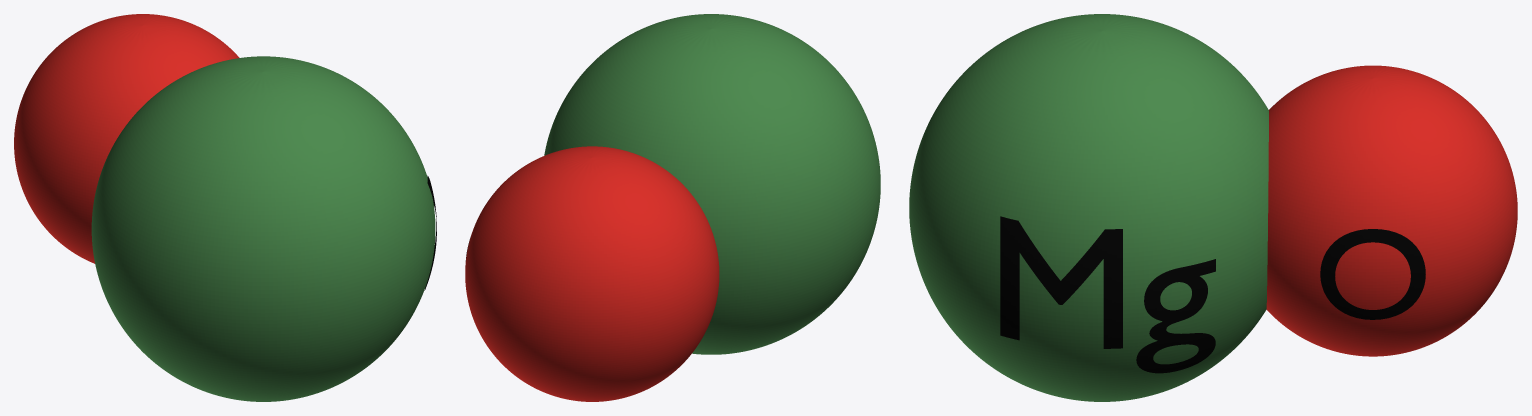
File: Magnesium Oxide (MgO) - Copy.fbx
3 views of the same model, side by side, from view 1: azimuth 30°, elevation 25°; view 2: azimuth 150°, elevation 25°; view 3: azimuth 270°, elevation 25° (orthographic). The views are drawn at different scales.
Parts seen in each view (by area): view 1: Sphere.009, Sphere.010; view 2: Sphere.009, Sphere.010; view 3: Sphere.009, Sphere.010, Text.009, Text.010.
Boxes of the visible parts, left/top/right/bottom form: Sphere.009: left=91, top=56, right=435, bottom=401; Sphere.010: left=14, top=14, right=239, bottom=263; Sphere.009: left=544, top=14, right=880, bottom=354; Sphere.010: left=465, top=146, right=719, bottom=401; Sphere.009: left=909, top=14, right=1268, bottom=401; Sphere.010: left=1266, top=65, right=1517, bottom=356; Text.009: left=1000, top=216, right=1215, bottom=373; Text.010: left=1320, top=229, right=1425, bottom=319.
Size of the model in its own units: 198 by 200 by 311.
